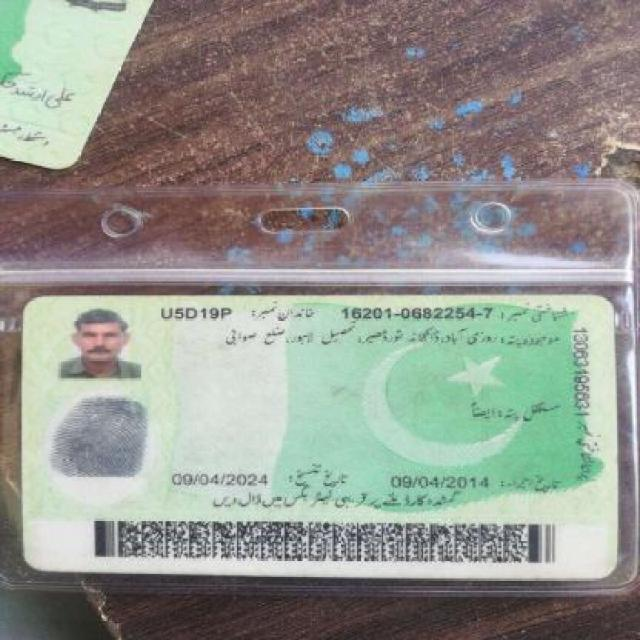Back: (17, 289, 625, 586)
